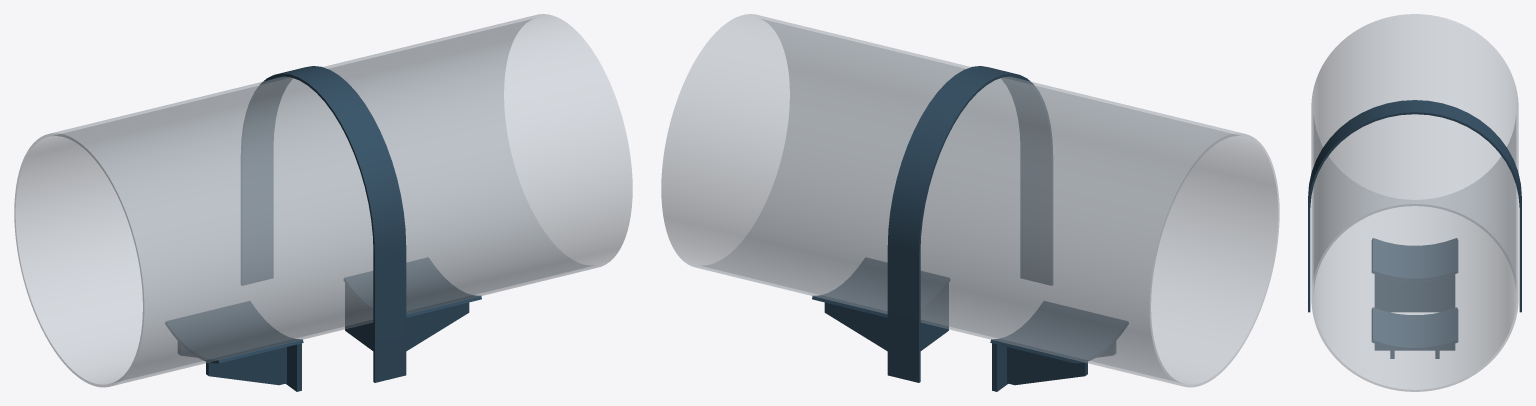
The model's file is TS-669.00.00-10-opora-dn720-ris1.glb.
The picture shows the model from 3 angles, left to right: view 1: azimuth 30°, elevation 25°; view 2: azimuth 150°, elevation 25°; view 3: azimuth 270°, elevation 25°; orthographic projection. The views are drawn at different scales.
Parts seen in each view (by area): view 1: truba, homut_9, upor_8, upor_4, upor_6, upor_2, upor_1, upor_5; view 2: truba, homut_9, upor_8, upor_4, upor_7, upor_3, upor_1, upor_5; view 3: truba, homut_9, upor_8, upor_4, upor_5, upor_1.
Part boxes in pixels (box(x1,y1,x2,y2)): truba: box(14, 14, 632, 387); homut_9: box(241, 66, 406, 382); upor_8: box(165, 301, 303, 363); upor_4: box(344, 258, 481, 317); upor_6: box(206, 347, 286, 385); upor_2: box(406, 302, 469, 351); upor_1: box(345, 283, 373, 350); upor_5: box(286, 343, 301, 391); truba: box(661, 14, 1279, 387); homut_9: box(887, 66, 1052, 382); upor_8: box(990, 301, 1128, 363); upor_4: box(812, 258, 949, 317); upor_7: box(1007, 347, 1087, 385); upor_3: box(824, 302, 887, 351); upor_1: box(920, 283, 948, 350); upor_5: box(992, 343, 1007, 391); truba: box(1311, 14, 1518, 391); homut_9: box(1308, 100, 1521, 312); upor_8: box(1371, 238, 1458, 281); upor_4: box(1371, 307, 1458, 350); upor_5: box(1374, 274, 1455, 312); upor_1: box(1374, 344, 1455, 350).
Size of the model in its own units: 1560 by 859 by 742.
